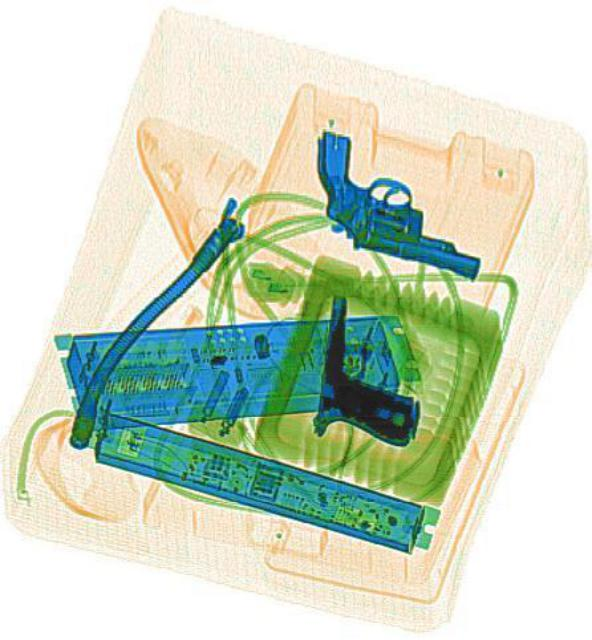Gun: (289, 125, 500, 277), (308, 294, 426, 444)
